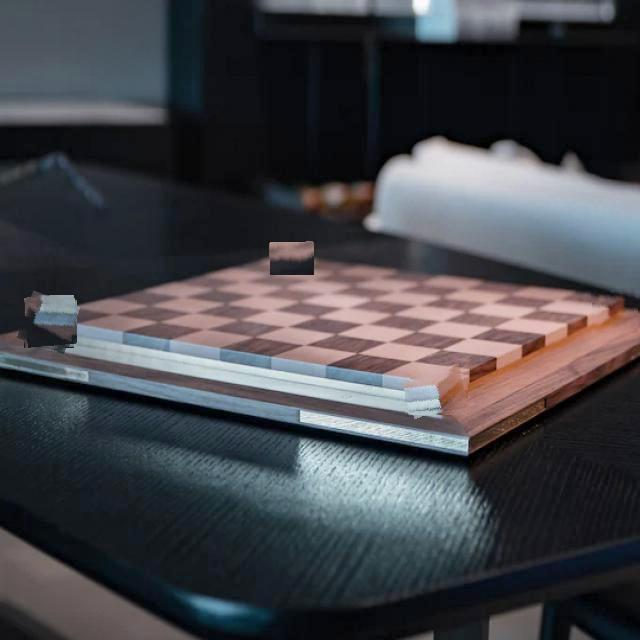chess-table-corners: (21, 295, 77, 351), (405, 367, 469, 415), (592, 289, 638, 333), (270, 242, 314, 275)
